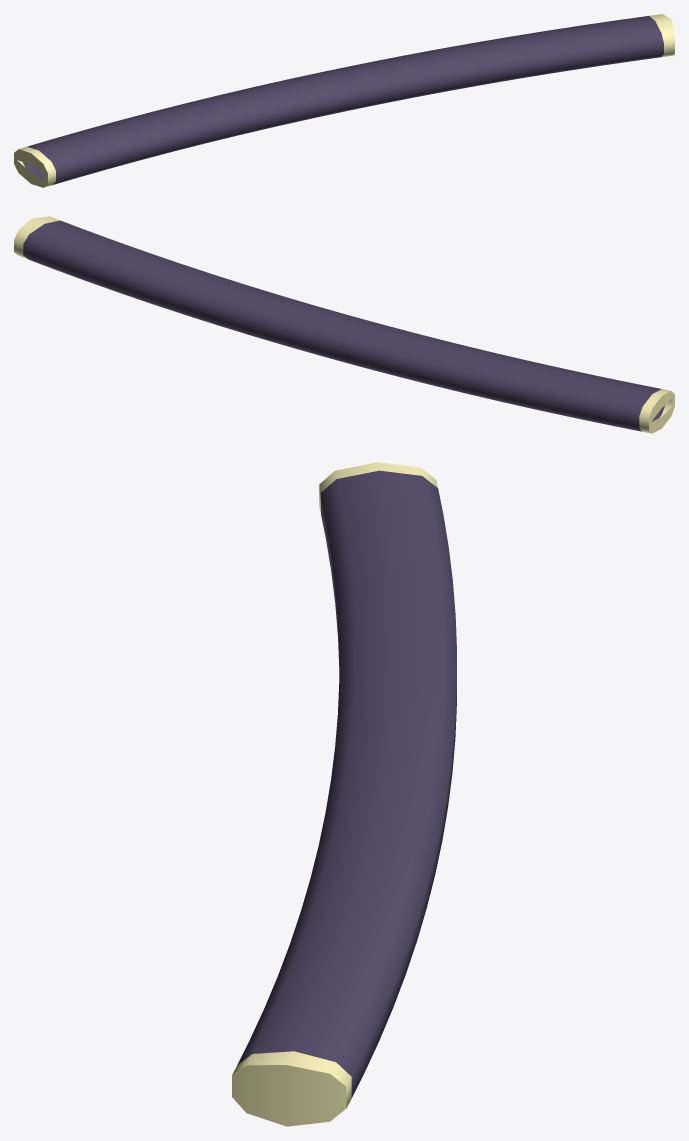
The model's file is Saya.glb.
The picture shows the model from 3 angles, top to bottom: view 1: azimuth 30°, elevation 25°; view 2: azimuth 150°, elevation 25°; view 3: azimuth 270°, elevation 25°; orthographic projection. The views are drawn at different scales.
Visible parts, largest first — view 1: Sheath; view 2: Sheath; view 3: Sheath.
Part boxes in pixels (left/top/right/bottom): Sheath: left=14, top=14, right=674, bottom=187; Sheath: left=14, top=216, right=674, bottom=433; Sheath: left=232, top=462, right=456, bottom=1126.
Size of the model in its own units: 9.64 by 0.457 by 1.51.
